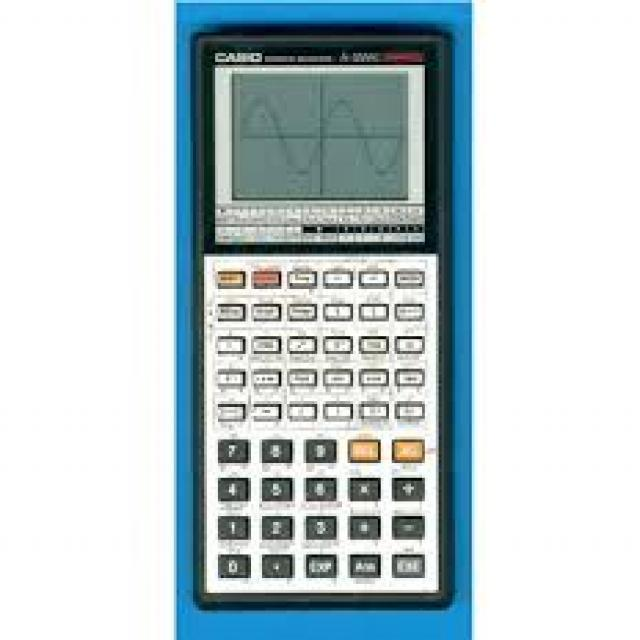Calculator: (173, 1, 474, 640)
